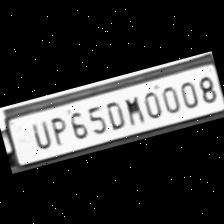0: (173, 76, 200, 110), (138, 85, 164, 120), (156, 80, 182, 115)
5: (82, 100, 110, 137)
6: (62, 106, 90, 142)
8: (192, 70, 218, 106)
D: (100, 96, 127, 132)
M: (118, 91, 146, 127)
P: (44, 112, 71, 148)
U: (24, 116, 54, 152)
